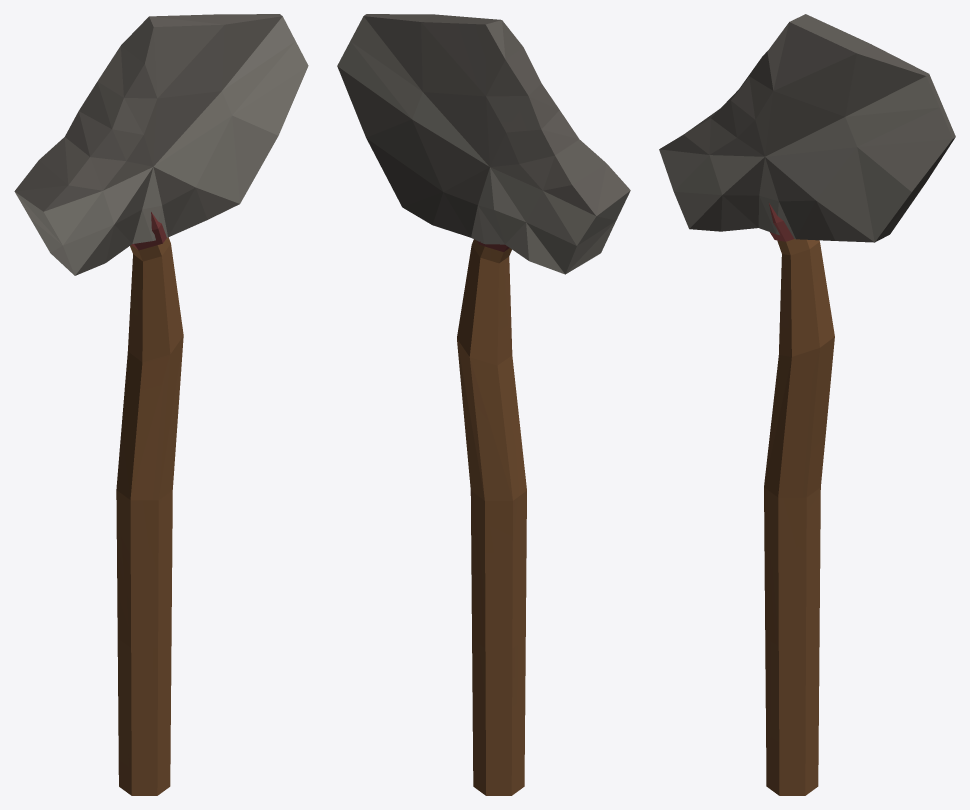
The model's file is wpn_axe_01_len13.fbx.
3 views of the same model, side by side, from view 1: azimuth 30°, elevation 25°; view 2: azimuth 150°, elevation 25°; view 3: azimuth 330°, elevation 25° (orthographic).
Parts seen in each view (by area): view 1: wpn_axe_01; view 2: wpn_axe_01; view 3: wpn_axe_01.
Part boxes in pixels (left/top/right/bottom): wpn_axe_01: left=14, top=14, right=308, bottom=795; wpn_axe_01: left=337, top=14, right=630, bottom=795; wpn_axe_01: left=659, top=14, right=955, bottom=795.
Bounding box in the file's own units: 0.4252 × 0.1039 × 1.12.
Materials: 1 (1 with a texture image).
